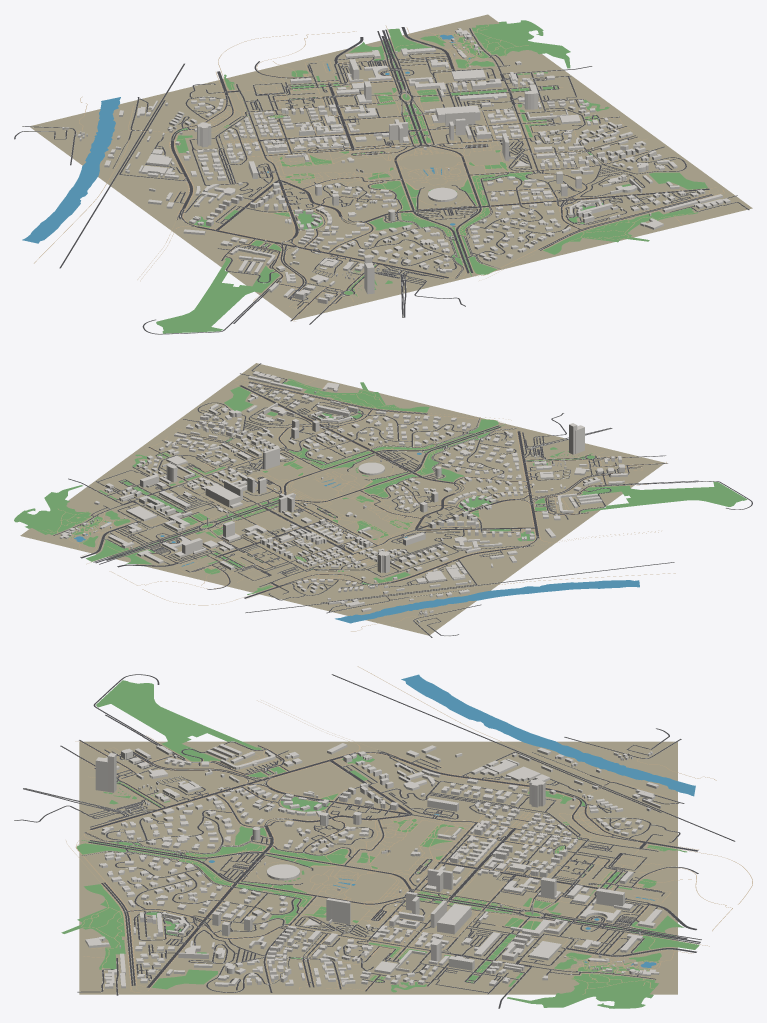
The model's file is eur_world.glb.
The picture shows the model from 3 angles, top to bottom: view 1: azimuth 30°, elevation 25°; view 2: azimuth 150°, elevation 25°; view 3: azimuth 270°, elevation 25°; orthographic projection. The views are drawn at different scales.
Parts seen in each view (by area): view 1: ground, green_107433294, green_31876038, water_23354547, green_401959698, water_23354527, green_401965145; view 2: ground, green_107433294, green_31876038, water_23354547, green_401959698, water_23354527, building_263558453, roads_33053073; view 3: ground, green_107433294, green_31876038, water_23354547, green_401959698, water_23354527, building_263558453, green_401965145, roads_33053073, building_23360275.
Boxes of the visible parts, x1,y1,x2,y2 form: ground: (30,14,752,320); green_107433294: (156,258,279,333); green_31876038: (472,20,570,68); water_23354547: (22,154,104,243); green_401959698: (543,207,698,254); water_23354527: (89,97,120,154); green_401965145: (649,172,707,189); ground: (20,363,664,635); green_107433294: (580,481,747,512); green_31876038: (14,485,91,534); water_23354547: (447,580,639,603); green_401959698: (283,378,429,412); water_23354527: (335,598,453,623); building_263558453: (205,484,240,507); roads_33053073: (245,562,674,612); ground: (79,741,677,994); green_107433294: (96,680,261,761); green_31876038: (507,973,658,1008); water_23354547: (401,674,578,756); green_401959698: (61,884,125,969); water_23354527: (570,750,695,796); building_263558453: (437,903,471,934); green_401965145: (151,969,217,989); roads_33053073: (332,674,734,841); building_23360275: (326,898,350,924).
Bounding box in the file's own units: 2980 × 145 × 2716.
